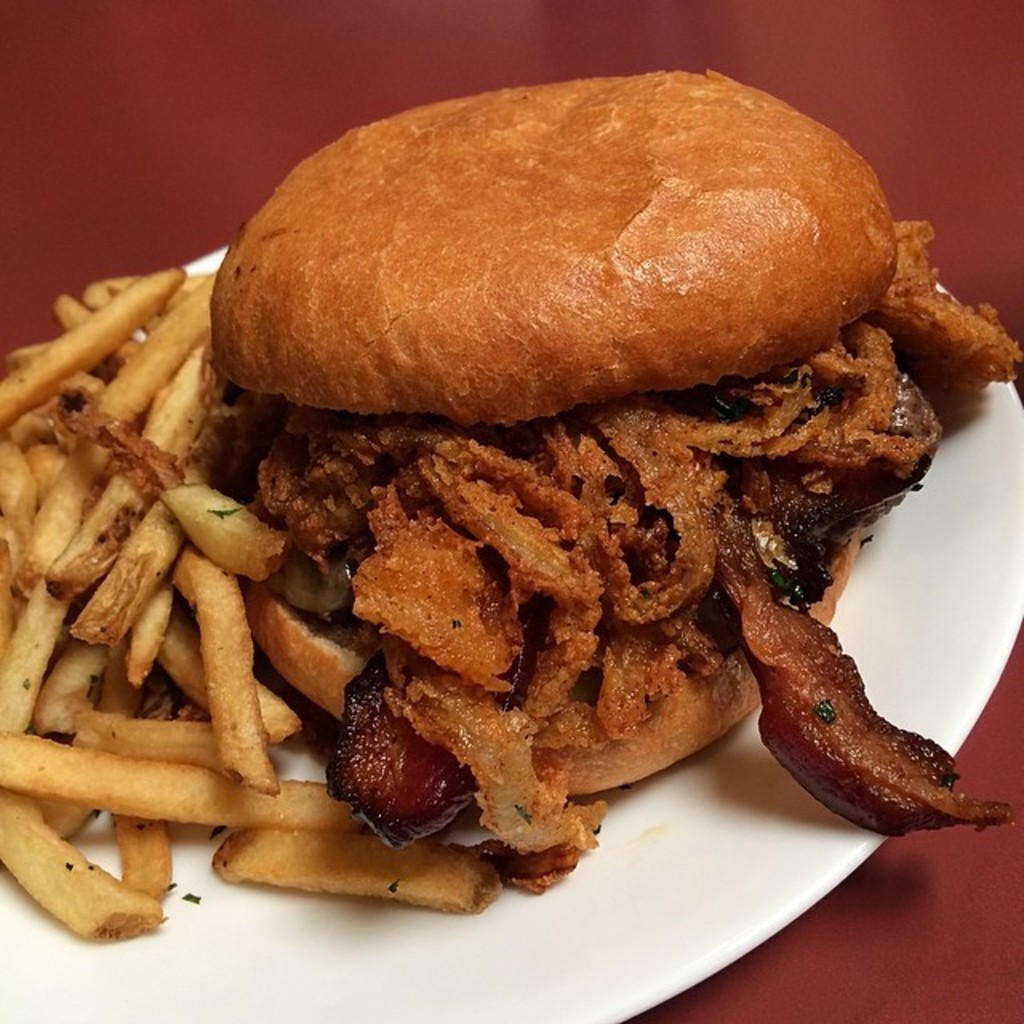French fries: (0, 233, 505, 948)
